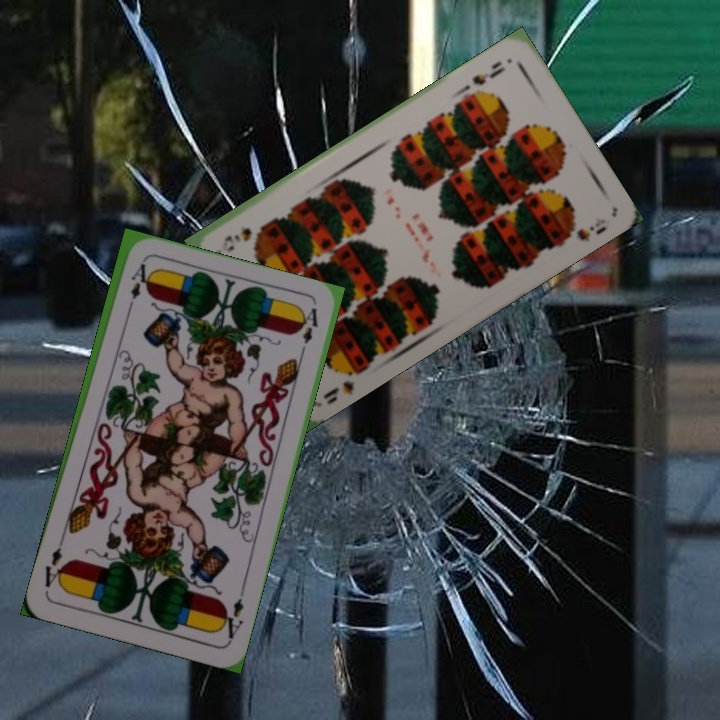EA: (215, 586, 247, 644), (123, 259, 148, 316)
S9: (319, 362, 366, 408), (468, 56, 508, 88)
